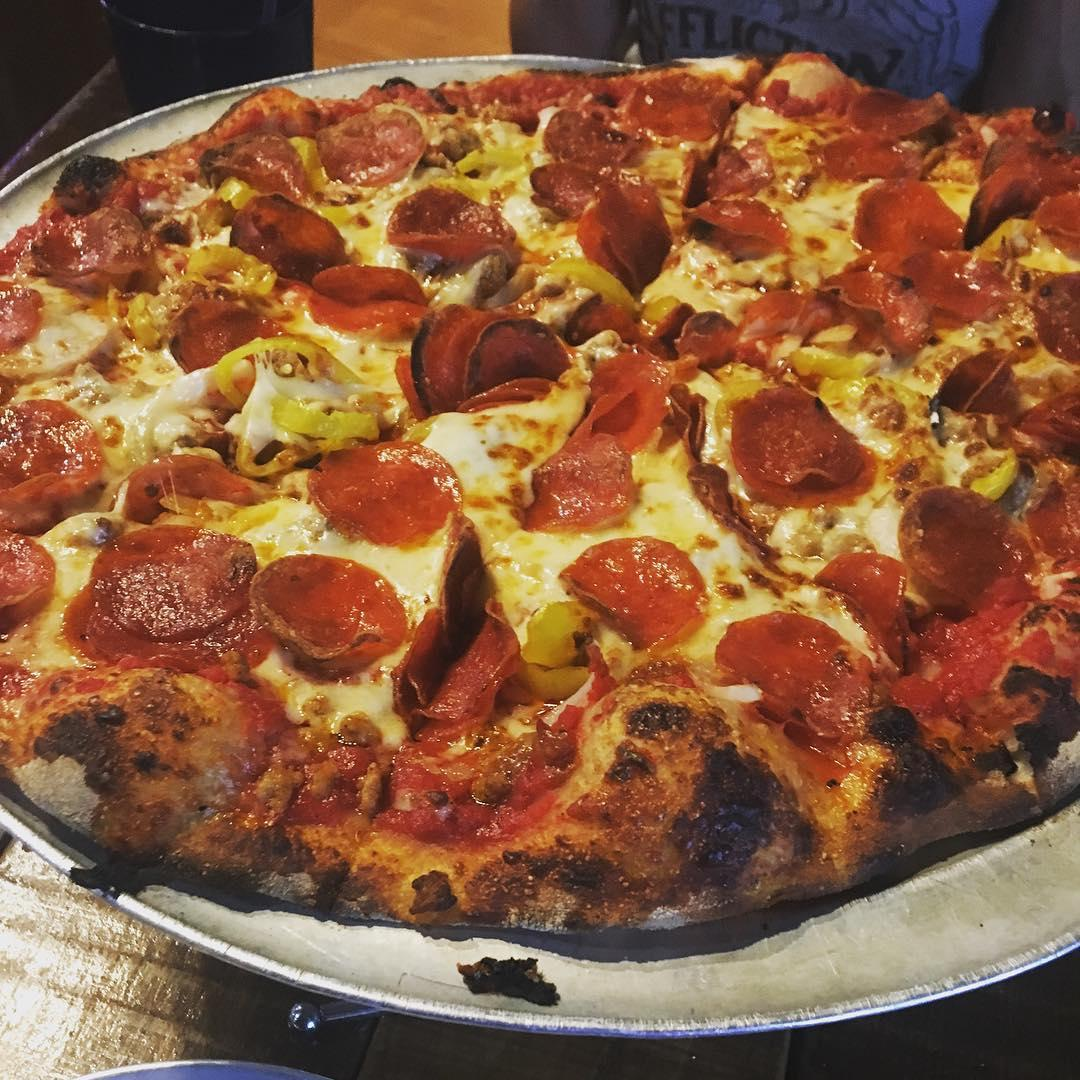Pepperoni: (816, 545, 1062, 705), (53, 520, 277, 678), (377, 524, 528, 731), (709, 605, 881, 759), (383, 296, 585, 423), (878, 484, 1046, 633), (300, 428, 472, 552), (543, 524, 713, 648), (239, 547, 412, 666), (726, 381, 879, 509), (503, 420, 639, 540), (566, 165, 679, 304), (278, 251, 430, 350), (0, 388, 106, 524), (831, 174, 972, 275), (564, 343, 685, 458), (220, 185, 359, 285), (946, 139, 1070, 245), (19, 196, 157, 289), (379, 179, 527, 262), (311, 101, 434, 198), (807, 262, 939, 351), (114, 449, 254, 529), (697, 279, 834, 358), (168, 295, 294, 380), (889, 235, 1006, 323), (992, 366, 1080, 478), (193, 129, 318, 202), (537, 97, 647, 173), (927, 337, 1029, 416), (680, 191, 797, 258), (520, 149, 629, 215), (676, 133, 788, 197), (0, 511, 60, 630), (800, 132, 923, 185), (1015, 177, 1080, 276), (624, 81, 742, 133), (1024, 265, 1080, 366), (843, 84, 950, 131), (0, 273, 48, 363)
Peppers: (214, 330, 386, 474), (129, 245, 283, 341), (502, 593, 611, 709), (539, 253, 682, 326), (782, 335, 885, 414), (442, 122, 543, 200), (190, 175, 263, 243), (288, 125, 337, 194), (967, 445, 1021, 507)
Pizza: (0, 54, 1080, 946)
